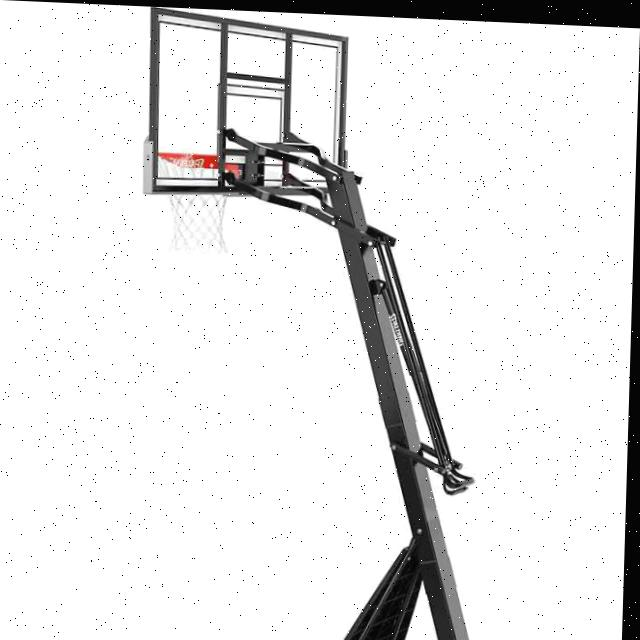hoop: (155, 152, 241, 256)
